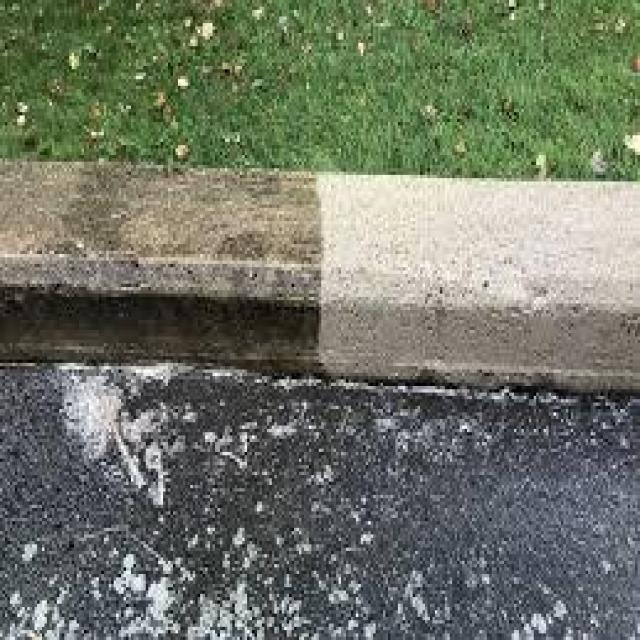curb: (1, 149, 639, 405)
